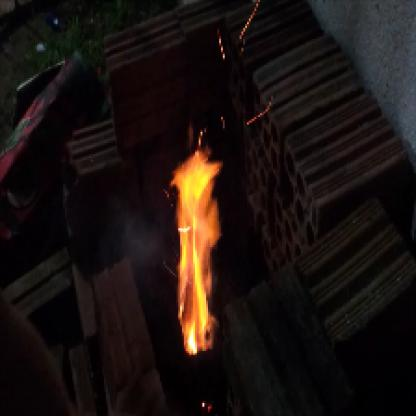Fire: (166, 121, 230, 354)
